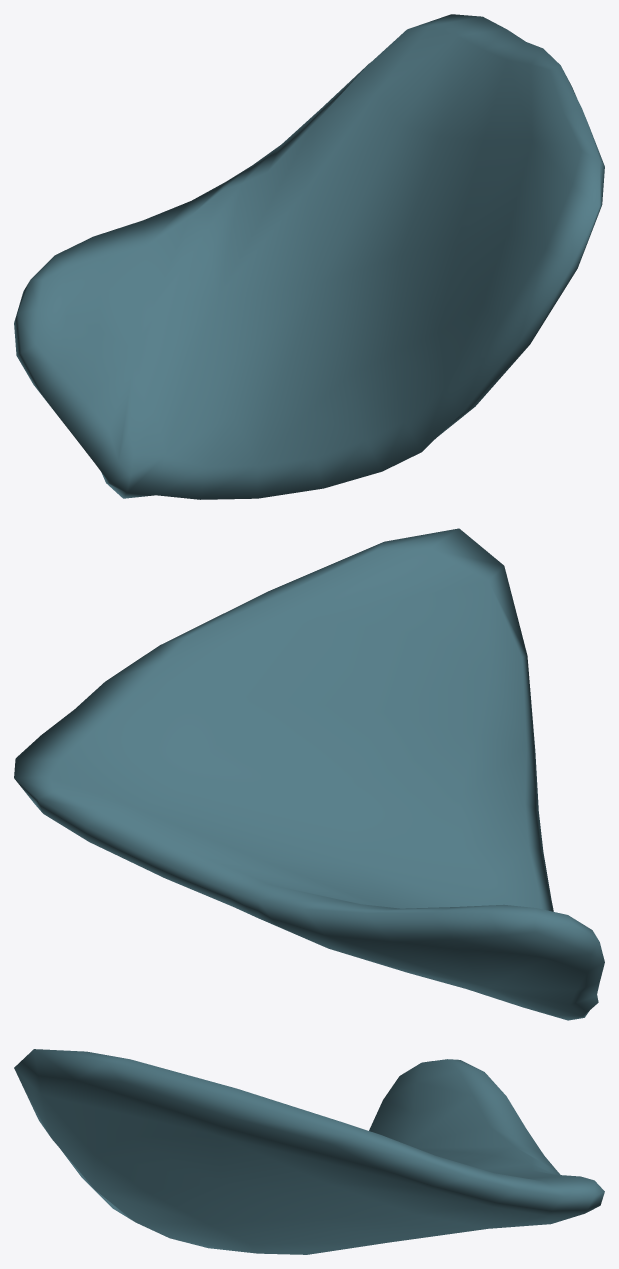
File: Long_plantar_ligament_4th_metatarsal_base_right.glb
3 views of the same model, one above another, from view 1: azimuth 30°, elevation 25°; view 2: azimuth 150°, elevation 25°; view 3: azimuth 270°, elevation 25° (orthographic). The views are drawn at different scales.
Visible parts, largest first — view 1: Long_plantar_ligament_on_4th_metatarsal_base.r_Generated_Mes; view 2: Long_plantar_ligament_on_4th_metatarsal_base.r_Generated_Mes; view 3: Long_plantar_ligament_on_4th_metatarsal_base.r_Generated_Mes.
Part boxes in pixels (x1,y1,x2,y2): Long_plantar_ligament_on_4th_metatarsal_base.r_Generated_Mes: (14,14,604,499); Long_plantar_ligament_on_4th_metatarsal_base.r_Generated_Mes: (14,528,604,1020); Long_plantar_ligament_on_4th_metatarsal_base.r_Generated_Mes: (14,1049,604,1254).
Size of the model in its own units: 0.00534 by 0.00321 by 0.00563.
